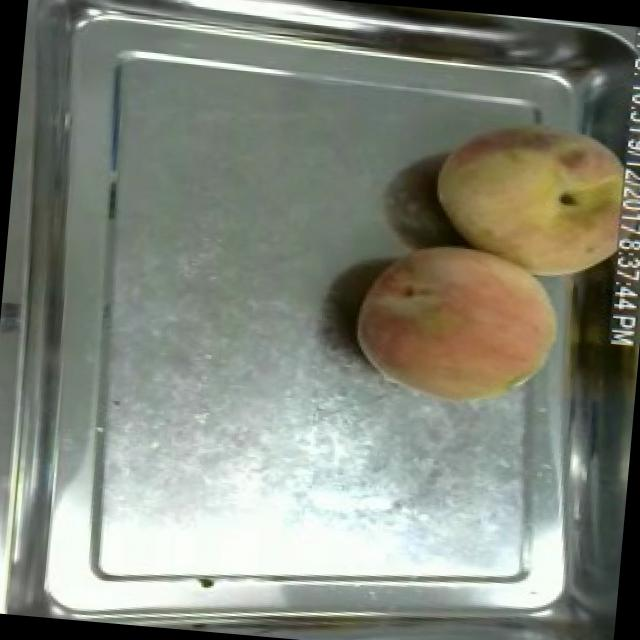Fruit: (338, 228, 576, 420), (418, 103, 640, 293)
